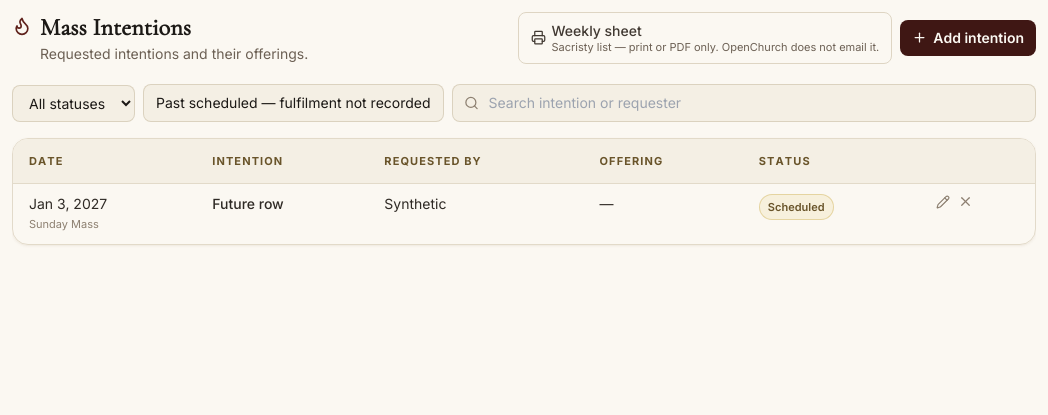
Test case: R313-2 past-scheduled empty copy is scoped to the active filters › CONTROL: with no search and all statuses, the unconstrained empty copy is used
This screenshot has width=1048, height=415.
Check: the text "Future row" is shown, box [196,184,368,244]
Click the button with test id "mi-past-filter" at point(293, 103), box [143,84,444,122]
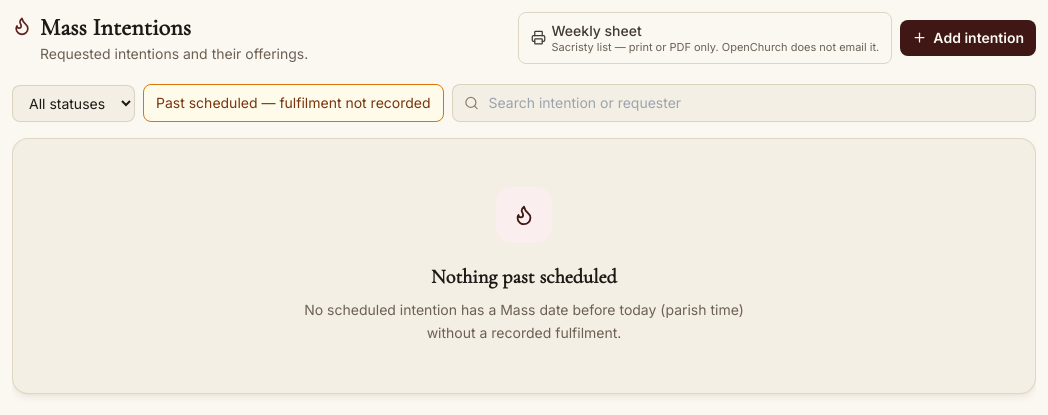
Check: the heading "Nothing past scheduled" is shown, box [431,265,617,289]
